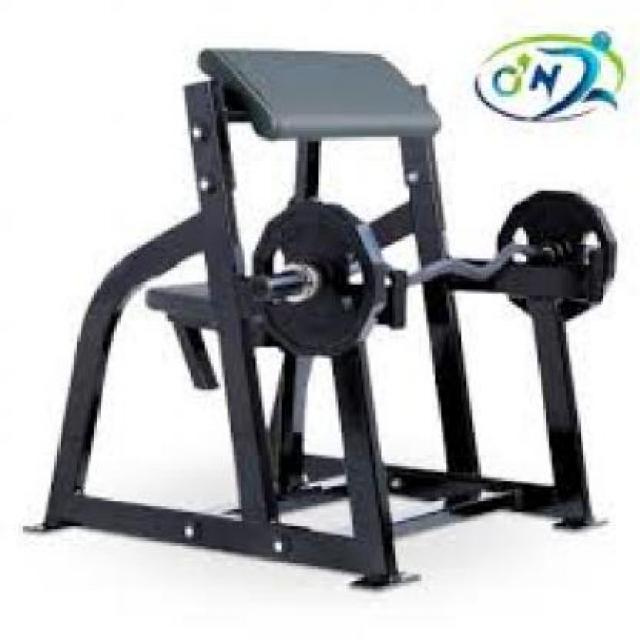arm curl machine: (20, 52, 617, 591)
